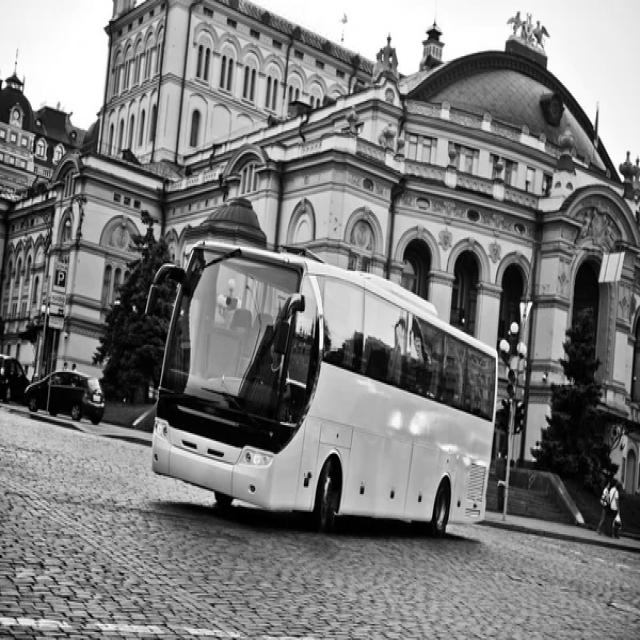Bus: (146, 239, 504, 533)
